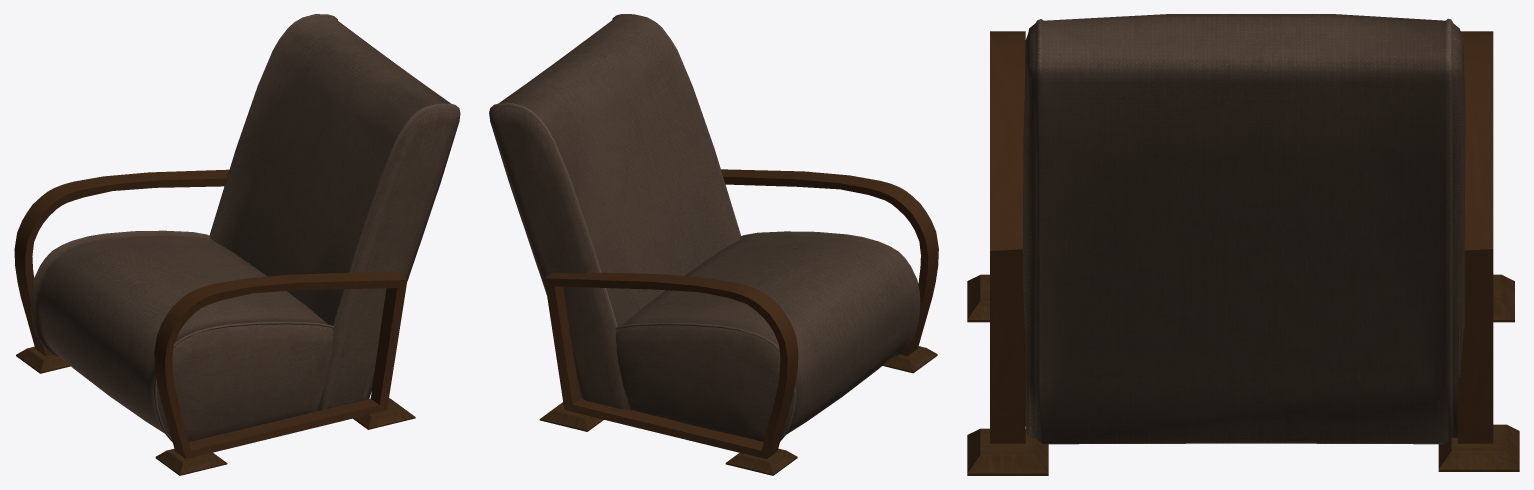
File: SM_Chair_B1.fbx
3 renders of one model, left to right at view 1: azimuth 30°, elevation 25°; view 2: azimuth 150°, elevation 25°; view 3: azimuth 270°, elevation 25°, orthographic. The views are drawn at different scales.
Visible parts, largest first — view 1: SM_Chair_B1; view 2: SM_Chair_B1; view 3: SM_Chair_B1.
Part boxes in pixels (<box>): SM_Chair_B1: <box>14,14,460,475</box>; SM_Chair_B1: <box>489,14,938,475</box>; SM_Chair_B1: <box>967,14,1519,475</box>.
Bounding box in the file's own units: 96.24 × 88.68 × 85.72.
Materials: 1 (1 with a texture image).
